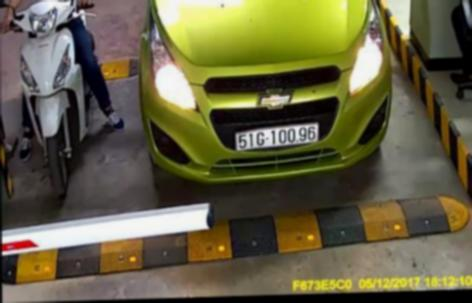License_Plate: (234, 124, 320, 153)
